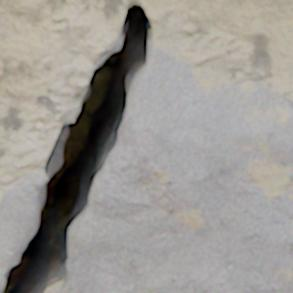broken_brick: (58, 47, 292, 292), (0, 137, 57, 291), (60, 105, 79, 128), (93, 50, 108, 68)
crack: (0, 0, 154, 292)
